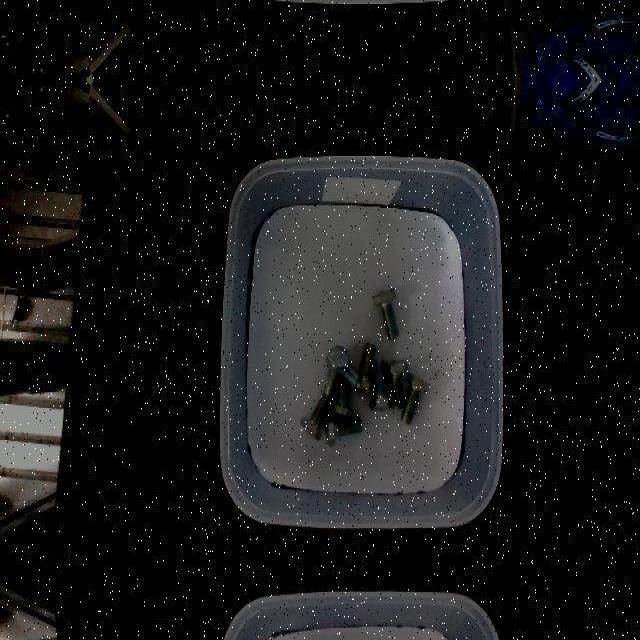screw: (399, 371, 429, 425), (299, 392, 331, 440), (368, 357, 394, 411), (373, 288, 400, 338), (383, 359, 408, 409), (323, 414, 363, 444), (325, 344, 348, 394)
